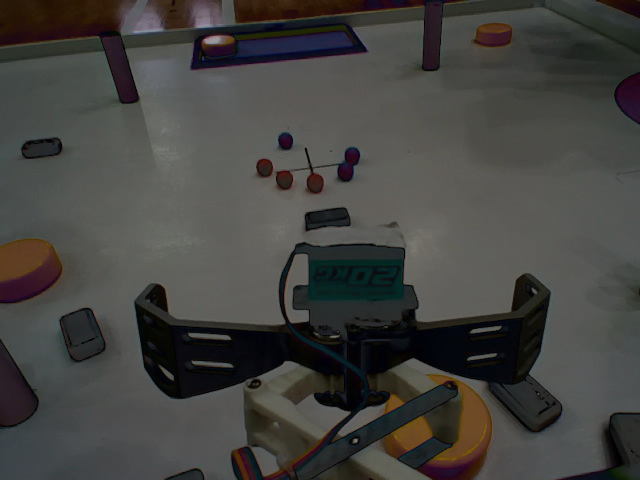black: (492, 358, 571, 458), (53, 308, 123, 368), (7, 130, 77, 157)
blue: (265, 128, 302, 156), (340, 136, 367, 168), (335, 158, 354, 182)
kuang: (172, 16, 379, 75)
red: (303, 167, 327, 194), (255, 154, 273, 178), (272, 168, 291, 189)
yellow: (363, 369, 494, 477), (1, 238, 88, 302), (465, 24, 518, 48), (197, 36, 241, 53)
zhuzi: (1, 326, 50, 434), (96, 30, 153, 104), (421, 1, 443, 85)
